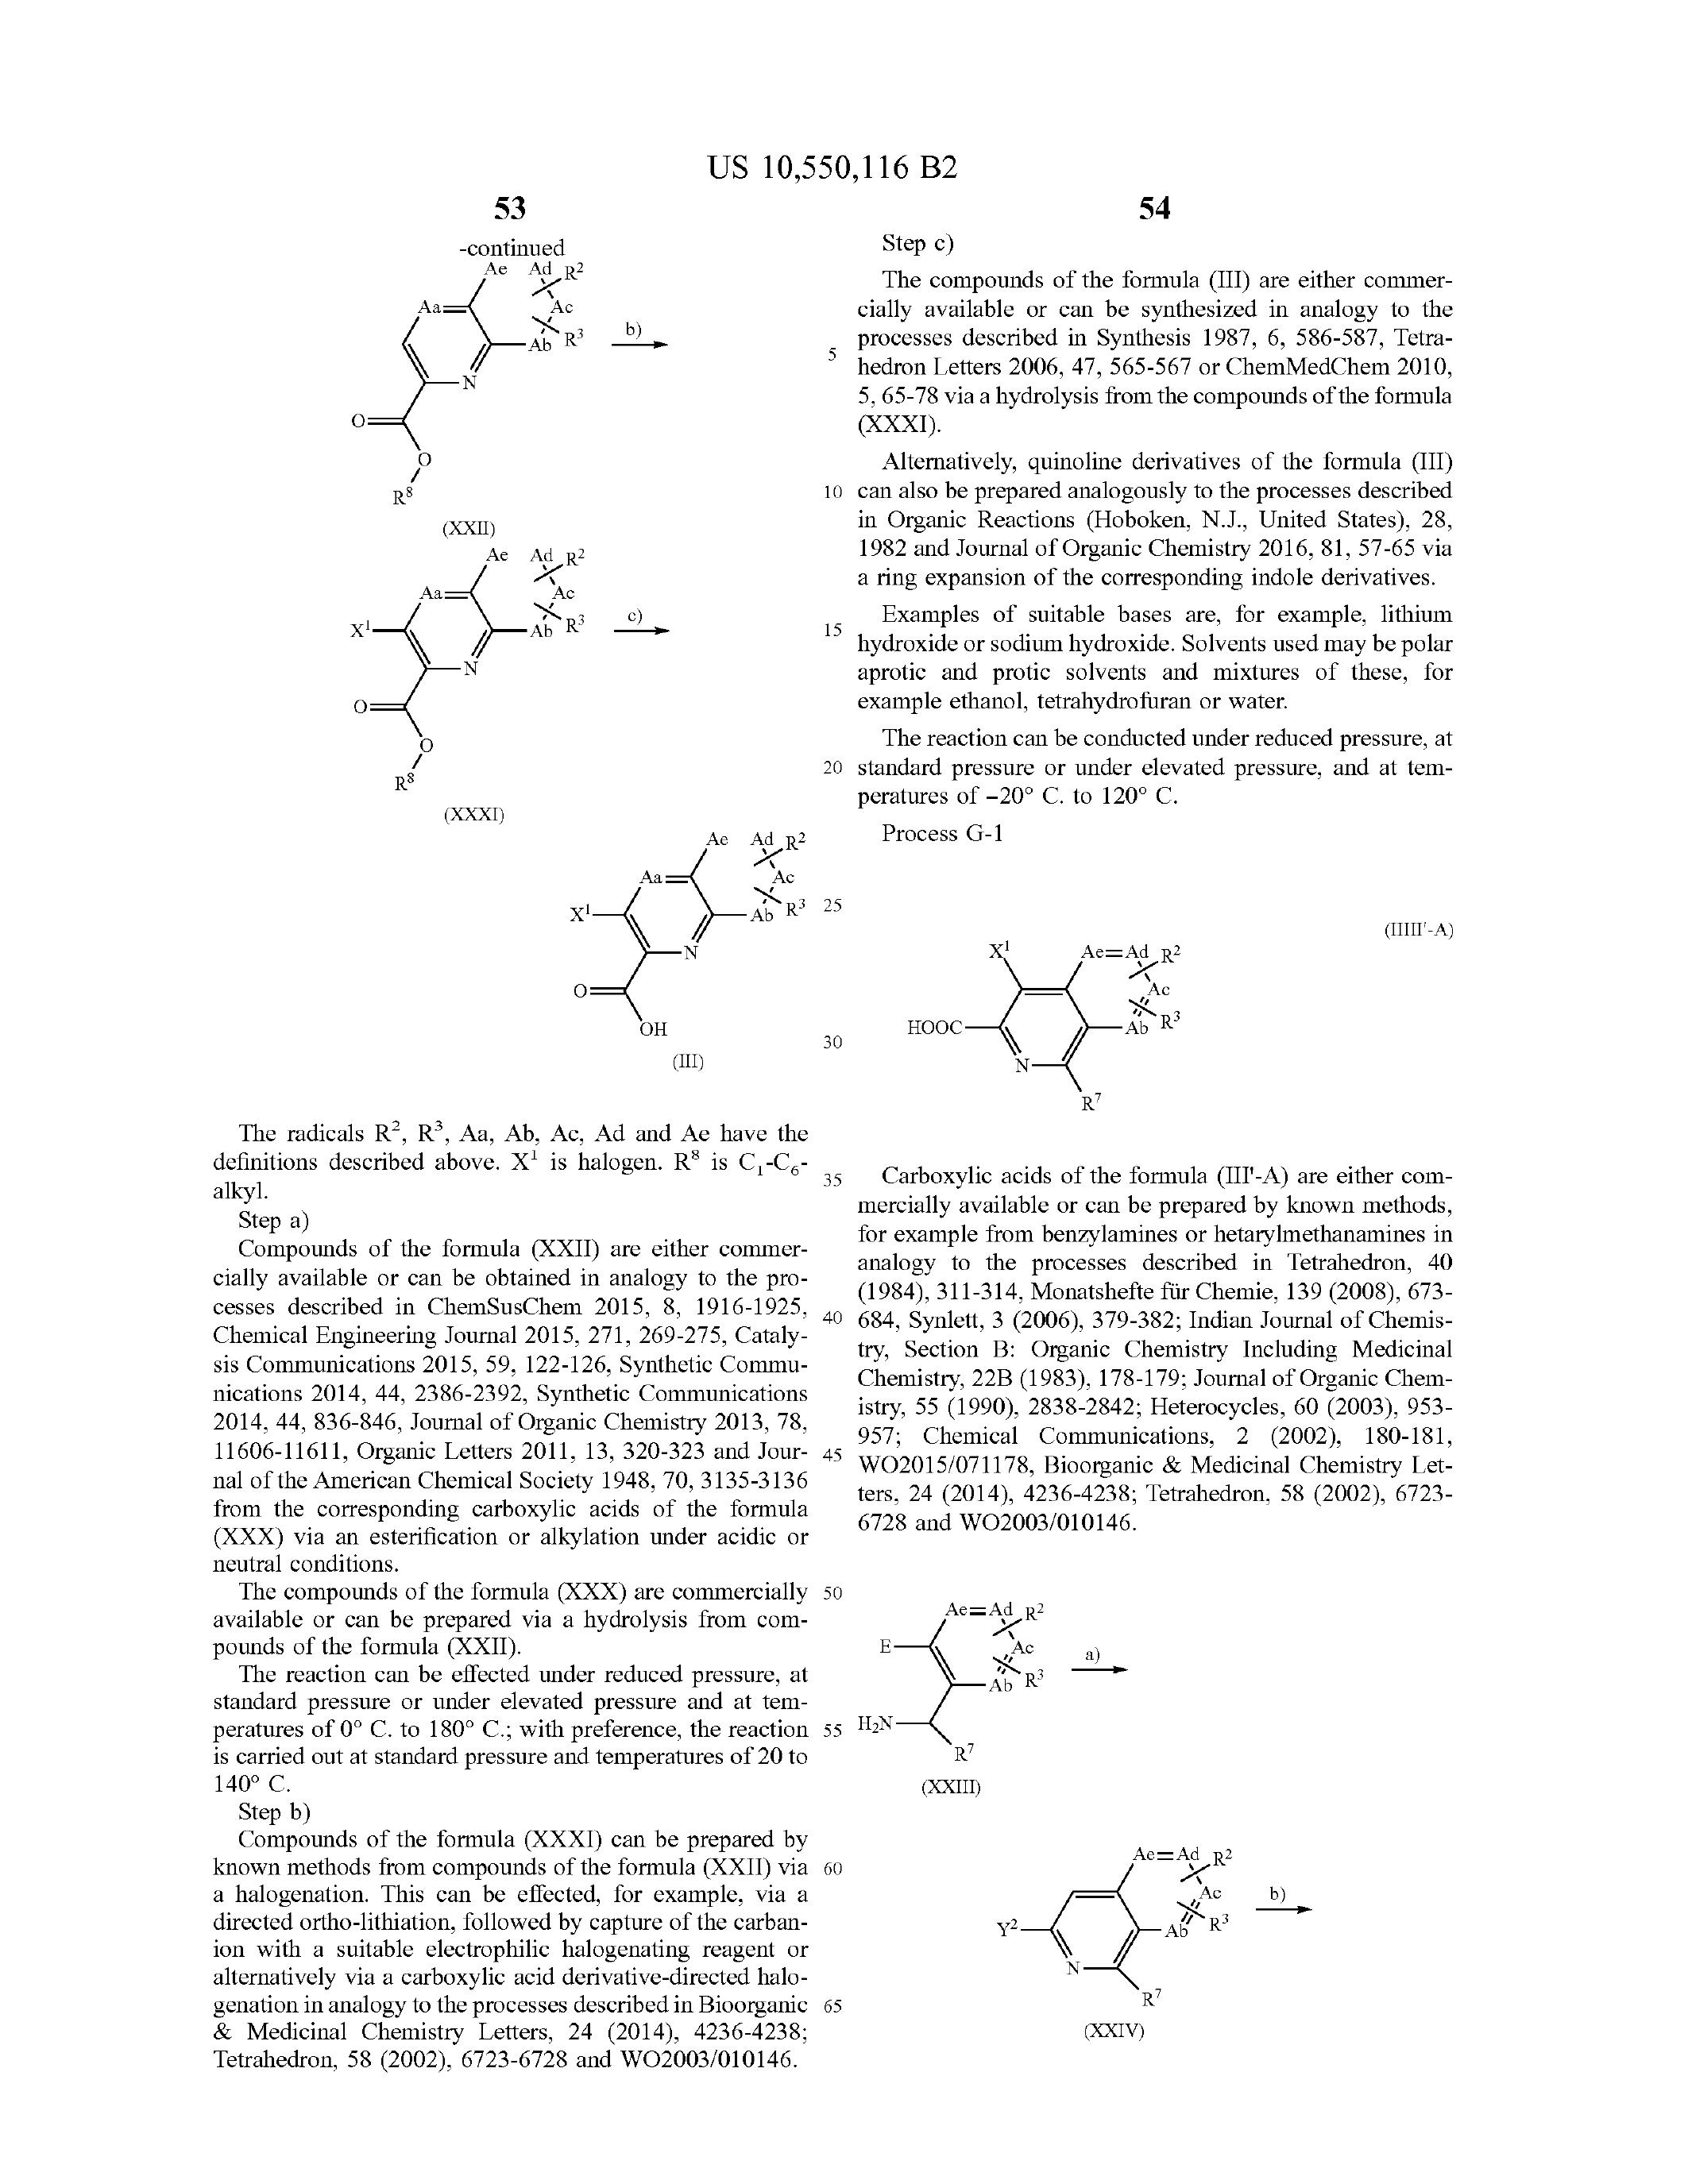reactions: (140, 133, 819, 1049), (856, 1572, 1387, 2056)
